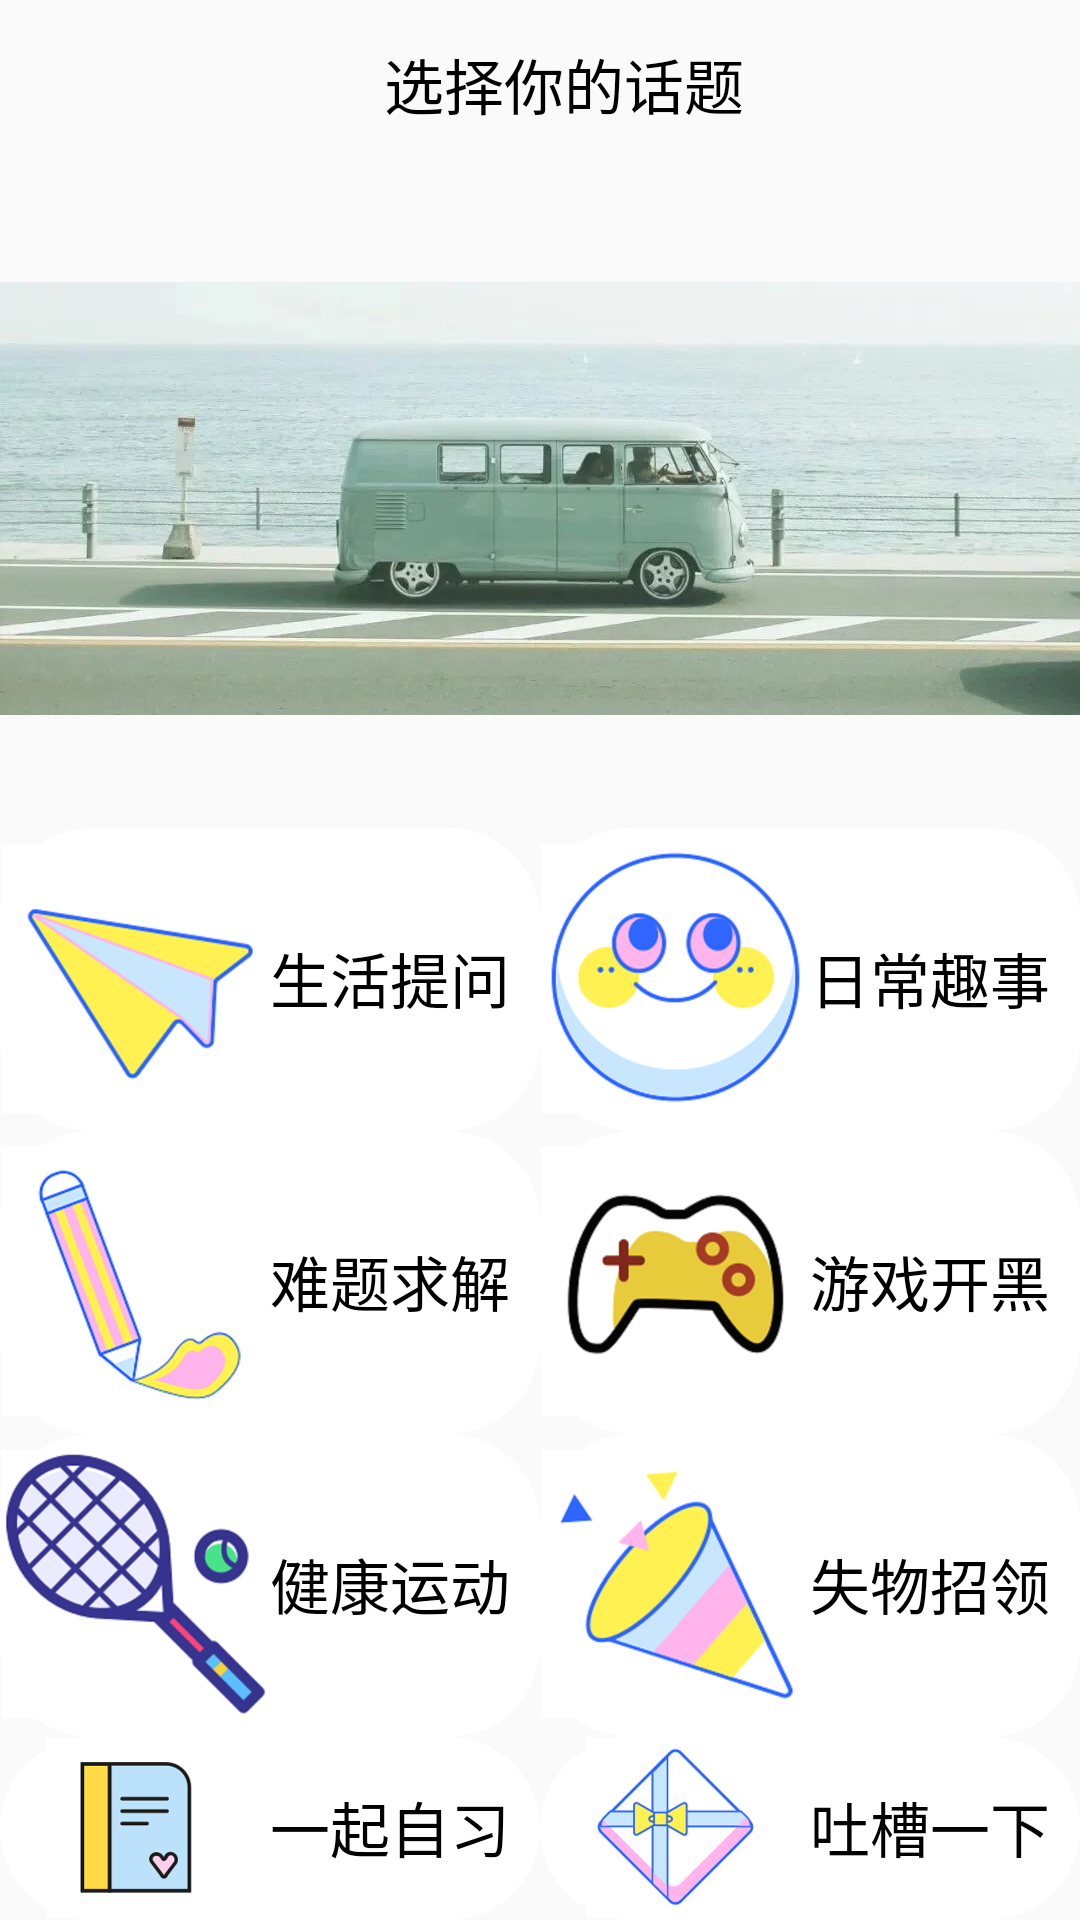

Named icons in this screenshot (1080w x 1920h) and their centers, (x=x, y=y):
midqushi: (x=675, y=977)
midyund: (x=135, y=1584)
midzixi: (x=136, y=1827)
